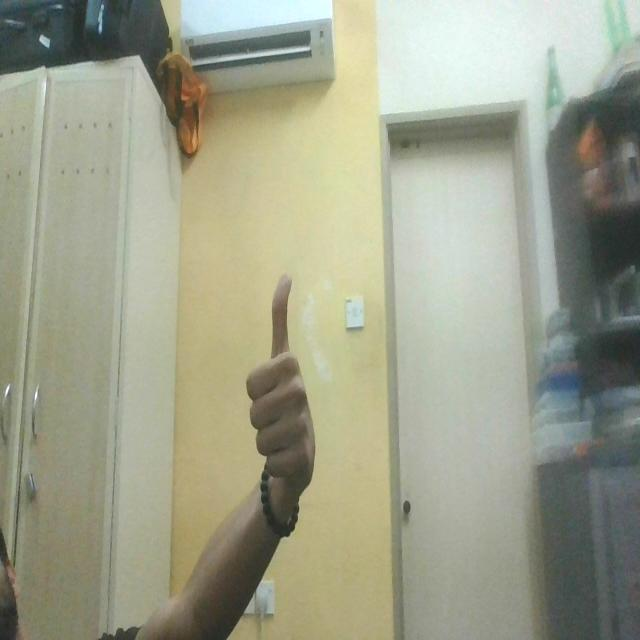thumbs up: (243, 266, 322, 519)
